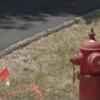Hydrant: (65, 24, 100, 100)
